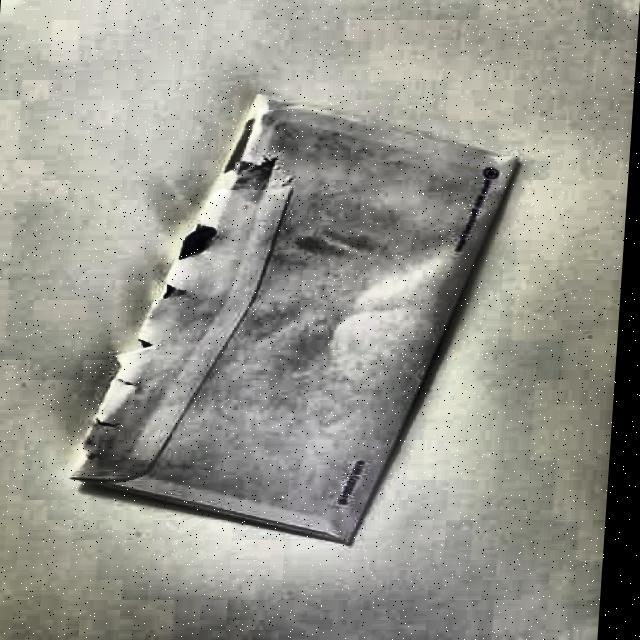paper: (59, 90, 531, 546)
